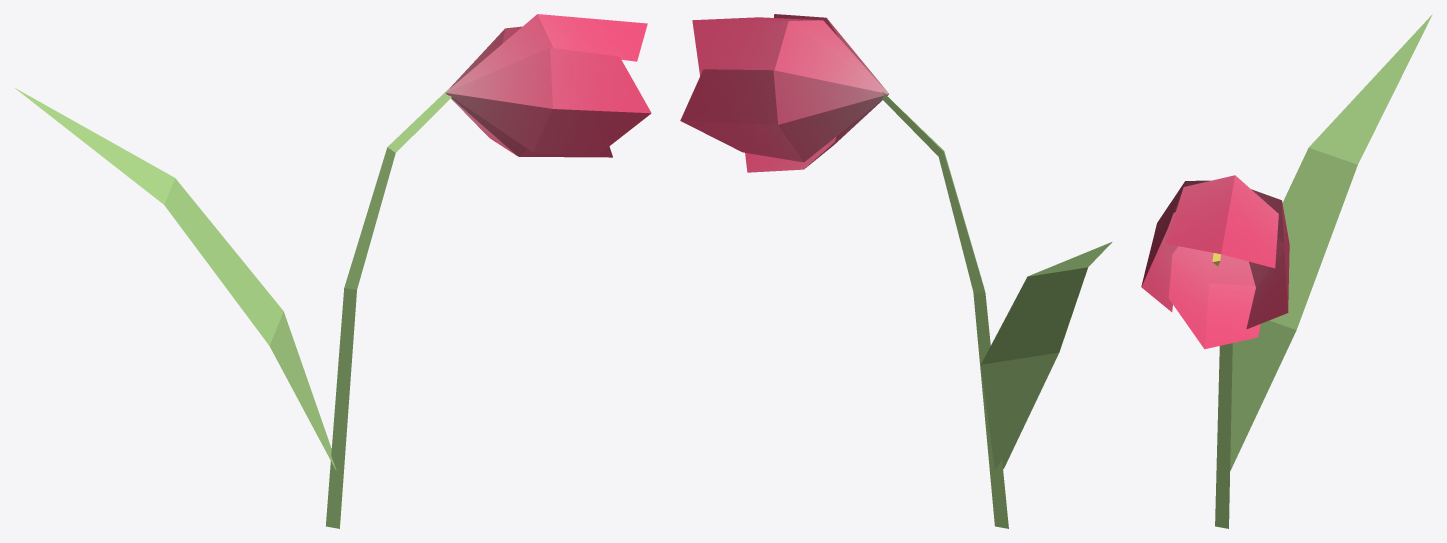
The model's file is Flower_f_TwoS_12.fbx.
3 views of the same model, side by side, from view 1: azimuth 30°, elevation 25°; view 2: azimuth 150°, elevation 25°; view 3: azimuth 270°, elevation 25° (orthographic).
Visible parts, largest first — view 1: Flower_f_TwoS_12; view 2: Flower_f_TwoS_12; view 3: Flower_f_TwoS_12.
Boxes of the visible parts, x1=… form: Flower_f_TwoS_12: x1=15, y1=14, x2=651, y2=528; Flower_f_TwoS_12: x1=680, y1=14, x2=1112, y2=528; Flower_f_TwoS_12: x1=1141, y1=14, x2=1432, y2=528.
Size of the model in its own units: 0.468 by 0.388 by 0.2271.
